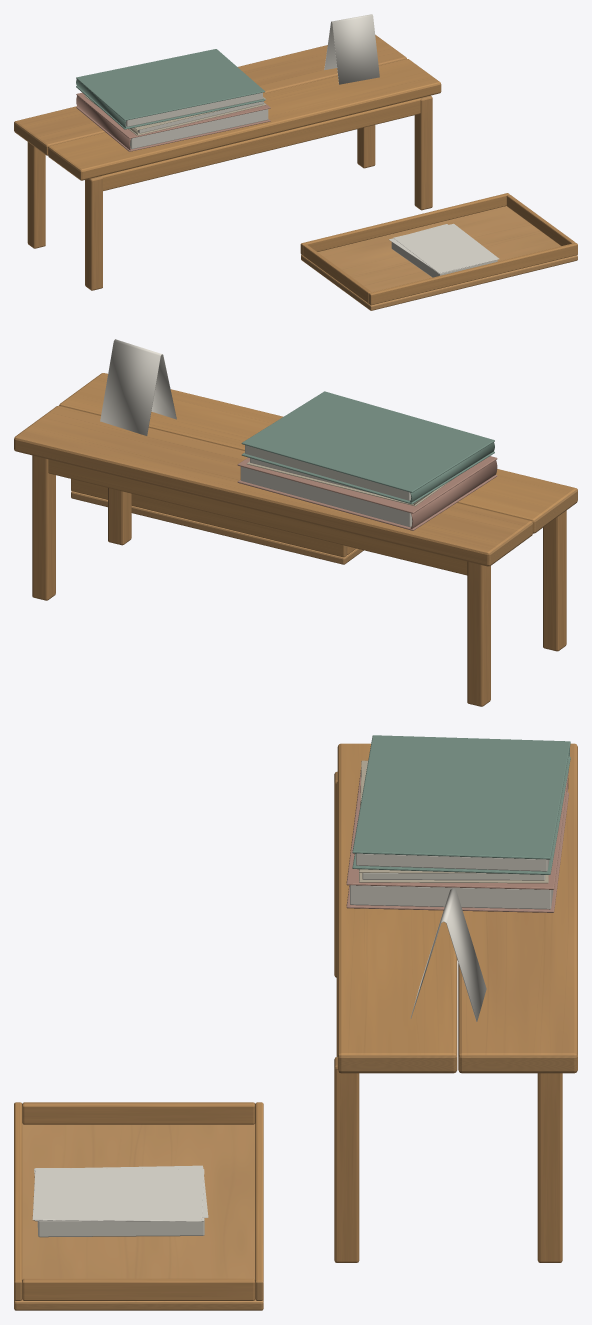
File: paper-display-set.glb
3 renders of one model, top to bottom at view 1: azimuth 30°, elevation 25°; view 2: azimuth 150°, elevation 25°; view 3: azimuth 270°, elevation 25°, orthographic. The views are drawn at different scales.
Parts seen in each view (by area): view 1: paper-foundation-v1/tiered-riser, paper-foundation-v1/shallow-tray, paper-foundation-v1/book-stack, paper-foundation-v1/paper-stack, paper-foundation-v1/folded-card; view 2: paper-foundation-v1/tiered-riser, paper-foundation-v1/book-stack, paper-foundation-v1/shallow-tray, paper-foundation-v1/folded-card; view 3: paper-foundation-v1/tiered-riser, paper-foundation-v1/shallow-tray, paper-foundation-v1/book-stack, paper-foundation-v1/paper-stack, paper-foundation-v1/folded-card.
Part boxes in pixels (<box>): paper-foundation-v1/tiered-riser: <box>14,35,441,290</box>; paper-foundation-v1/shallow-tray: <box>300,193,577,310</box>; paper-foundation-v1/book-stack: <box>76,49,270,151</box>; paper-foundation-v1/paper-stack: <box>389,223,499,277</box>; paper-foundation-v1/folded-card: <box>324,14,379,84</box>; paper-foundation-v1/tiered-riser: <box>14,373,577,706</box>; paper-foundation-v1/book-stack: <box>237,391,497,530</box>; paper-foundation-v1/shallow-tray: <box>71,479,363,564</box>; paper-foundation-v1/folded-card: <box>100,339,176,435</box>; paper-foundation-v1/tiered-riser: <box>334,743,577,1262</box>; paper-foundation-v1/shallow-tray: <box>14,1102,263,1310</box>; paper-foundation-v1/book-stack: <box>346,735,570,912</box>; paper-foundation-v1/paper-stack: <box>32,1165,208,1237</box>; paper-foundation-v1/folded-card: <box>410,888,486,1021</box>.
Size of the model in its own units: 0.9 by 0.3785 by 0.61.
9 materials, 4 textured.
